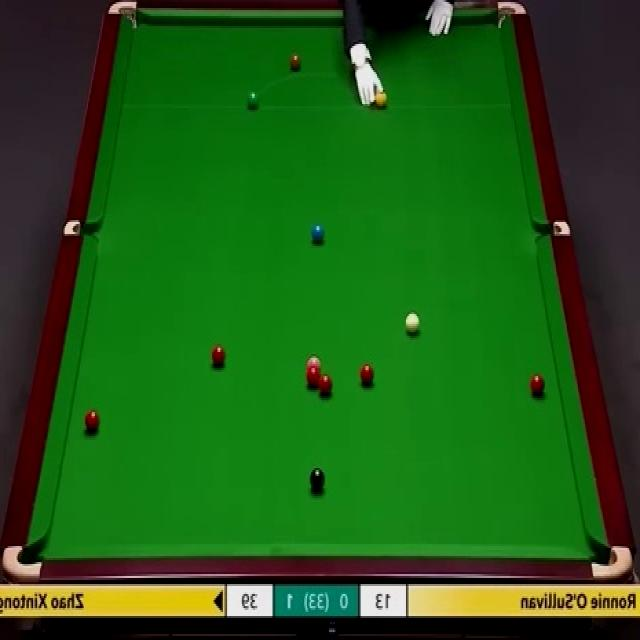pocket: (0, 542, 43, 582), (591, 542, 633, 582), (498, 0, 529, 31), (110, 0, 138, 34), (534, 218, 568, 236), (64, 221, 98, 237)
